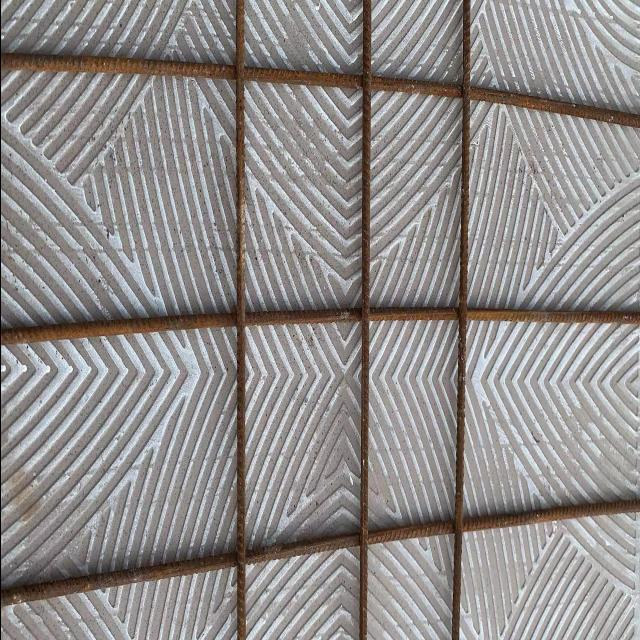ribbed bar: (1, 487, 640, 604), (1, 46, 640, 128), (1, 293, 640, 350), (449, 0, 473, 639), (358, 0, 372, 639), (234, 0, 248, 639)
